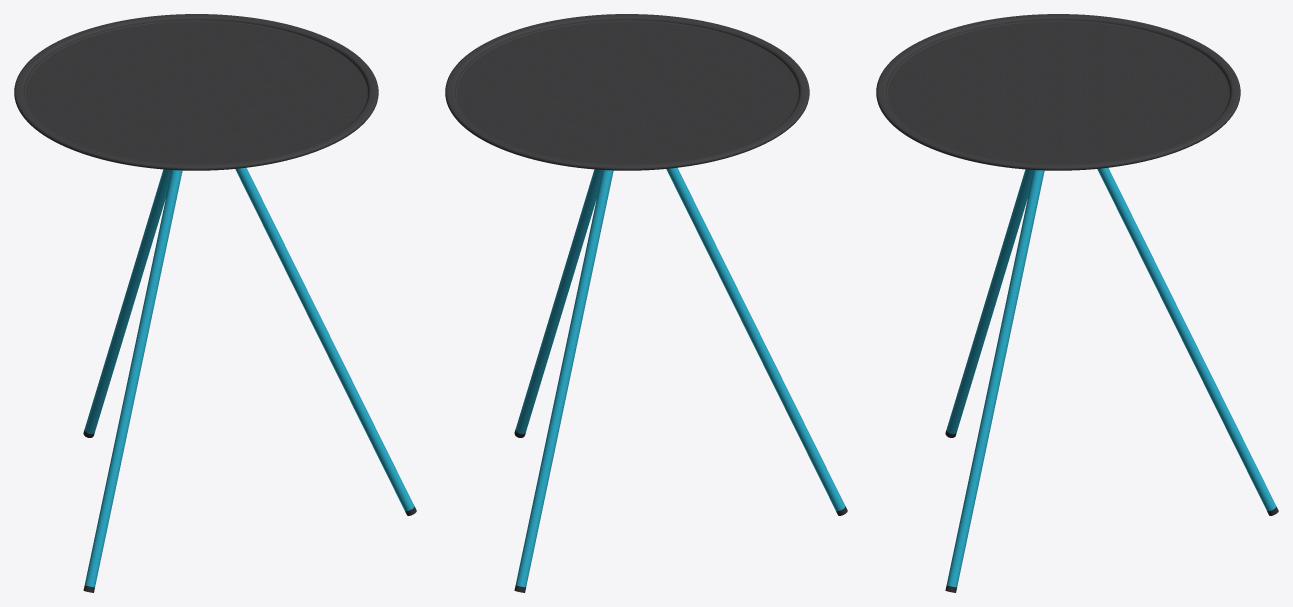
Rendered from helinox-side-table-m.glb.
3 views of the same model, side by side, from view 1: azimuth 30°, elevation 25°; view 2: azimuth 150°, elevation 25°; view 3: azimuth 270°, elevation 25° (orthographic).
Size of the model in its own units: 0.368 by 0.45 by 0.3866.
6 materials, 1 textured.
